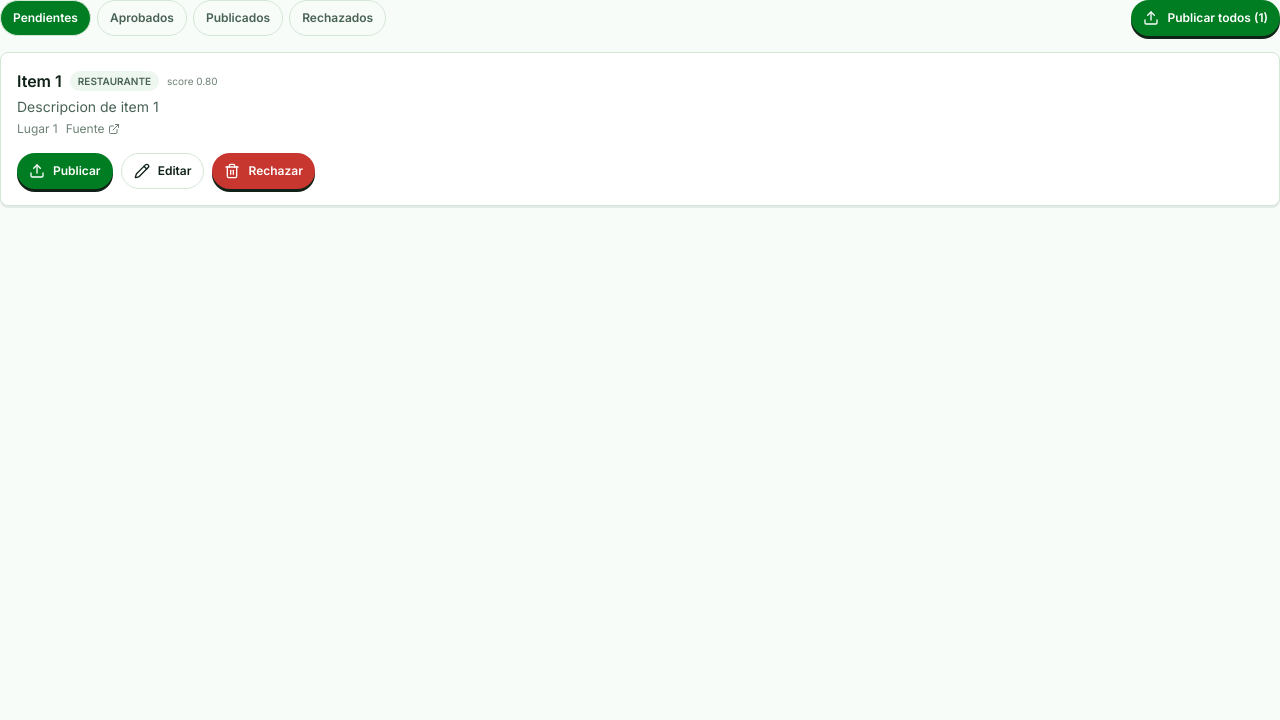
ModerationQueue › editar abre el modal con los valores actuales
This screenshot has width=1280, height=720.
Click the button "Editar". click: [162, 171]
box: x1=121 y1=153 x2=204 y2=189
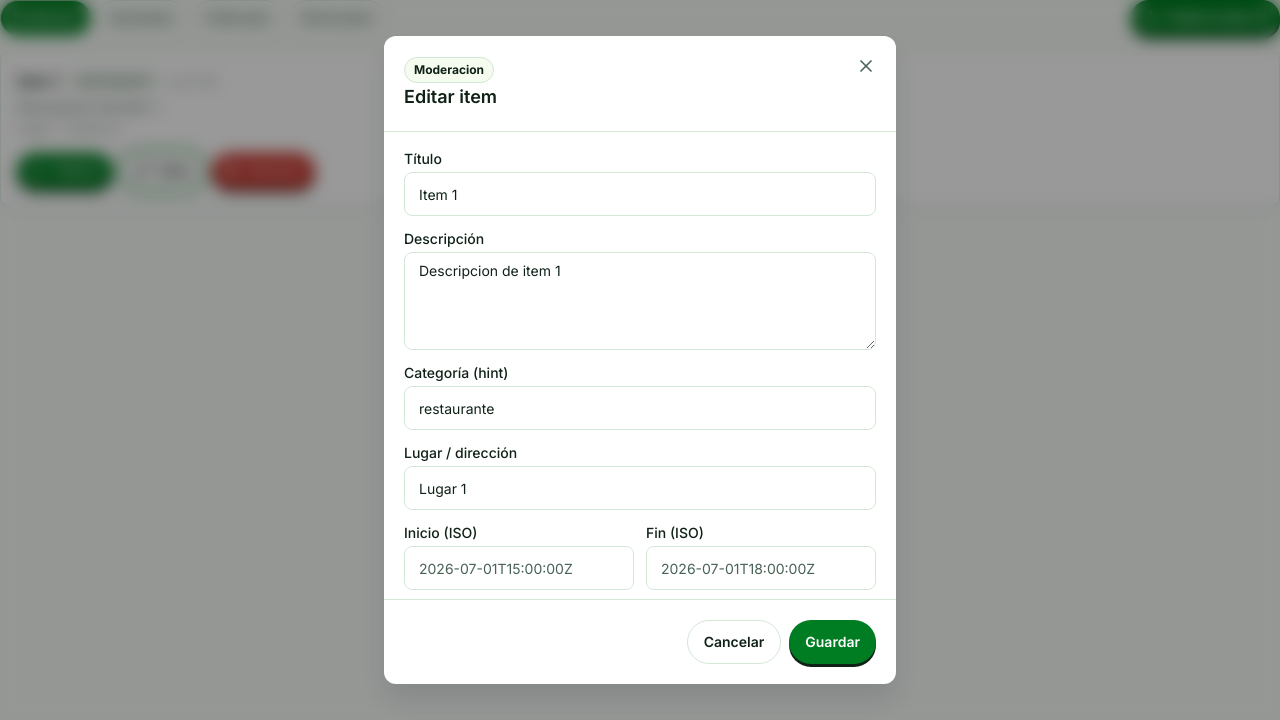
Result: the field labelled "Título" holds "Item 1" at x1=404 y1=172 x2=876 y2=216
